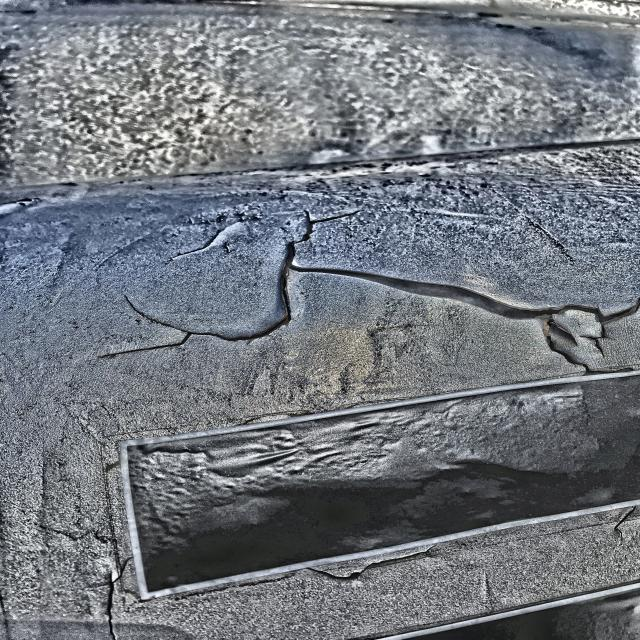crack: (290, 268, 630, 340), (102, 282, 285, 382), (274, 216, 373, 267)
